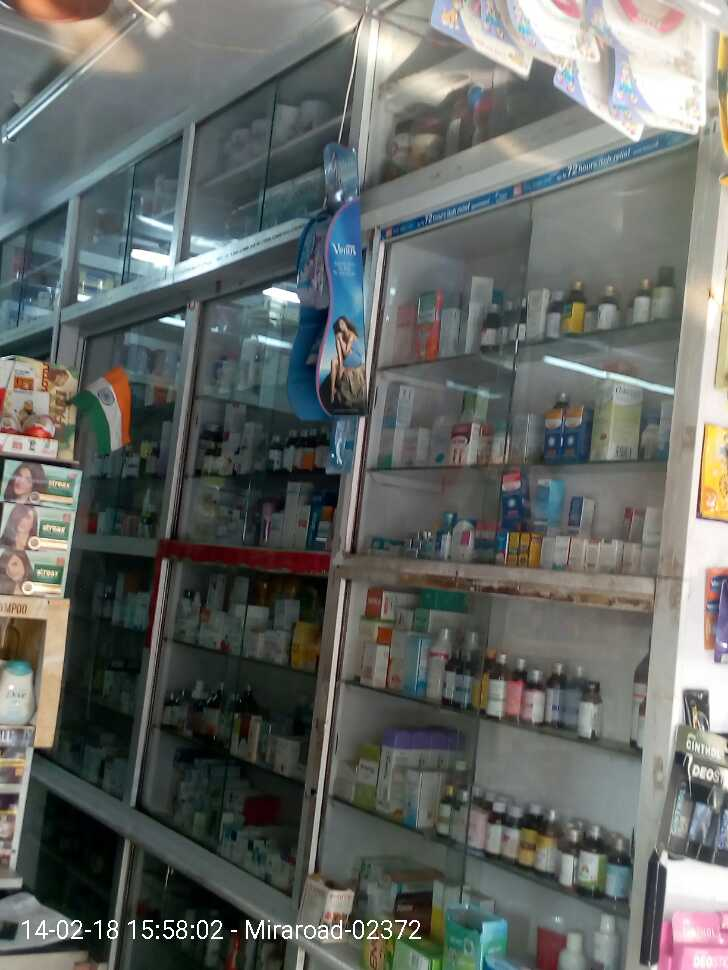beauty: (293, 224, 334, 310)
